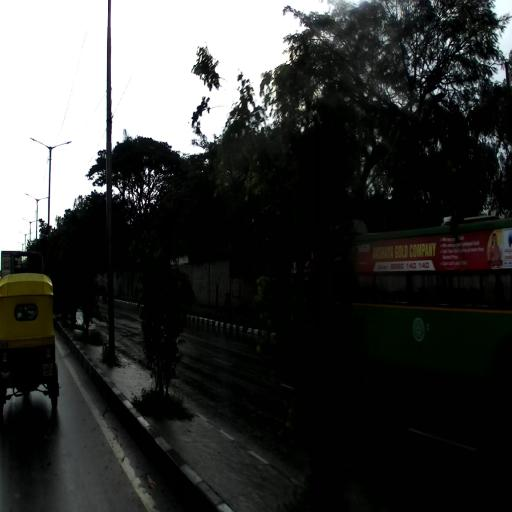street_light_0: (30, 137, 52, 154), (49, 141, 72, 154), (25, 194, 38, 204), (36, 197, 50, 205), (22, 218, 31, 225), (19, 231, 26, 237), (25, 232, 33, 237), (30, 220, 39, 224), (22, 242, 29, 246), (18, 241, 23, 246), (17, 249, 20, 251)
